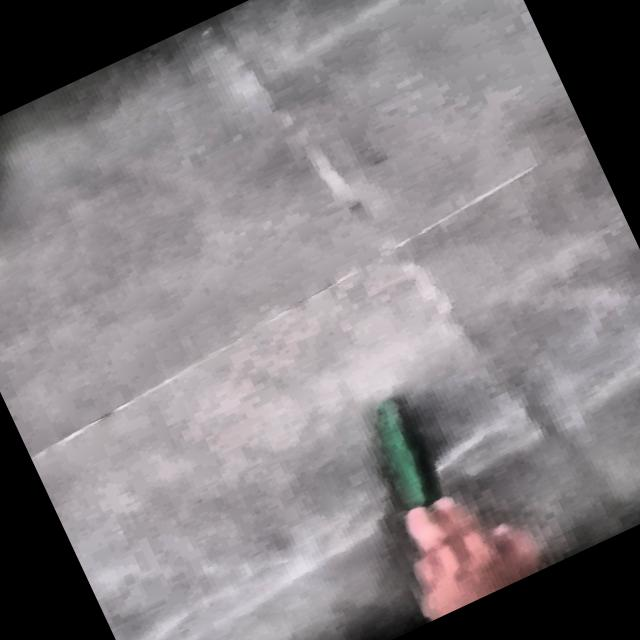payload: (377, 397, 440, 508)
